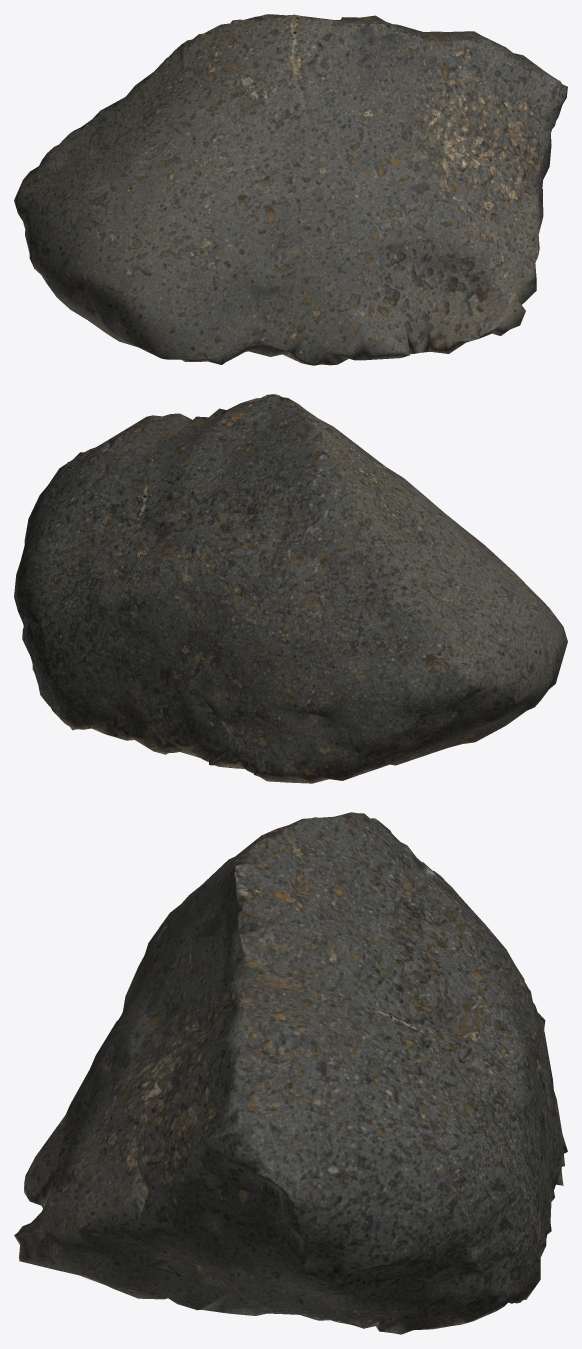
File: SM_yh2mfh0r_tier_2.gltf
The picture shows the model from 3 angles, top to bottom: view 1: azimuth 30°, elevation 25°; view 2: azimuth 150°, elevation 25°; view 3: azimuth 270°, elevation 25°; orthographic projection. The views are drawn at different scales.
Visible parts, largest first — view 1: yh2mfh0r_LOD2_TIER2_000; view 2: yh2mfh0r_LOD2_TIER2_000; view 3: yh2mfh0r_LOD2_TIER2_000.
Boxes of the visible parts, x1,y1,x2,y2 form: yh2mfh0r_LOD2_TIER2_000: [14, 14, 567, 365]; yh2mfh0r_LOD2_TIER2_000: [14, 394, 567, 783]; yh2mfh0r_LOD2_TIER2_000: [14, 812, 567, 1334].
Size of the model in its own units: 0.2363 by 0.1313 by 0.1675.
1 material, 1 textured.
